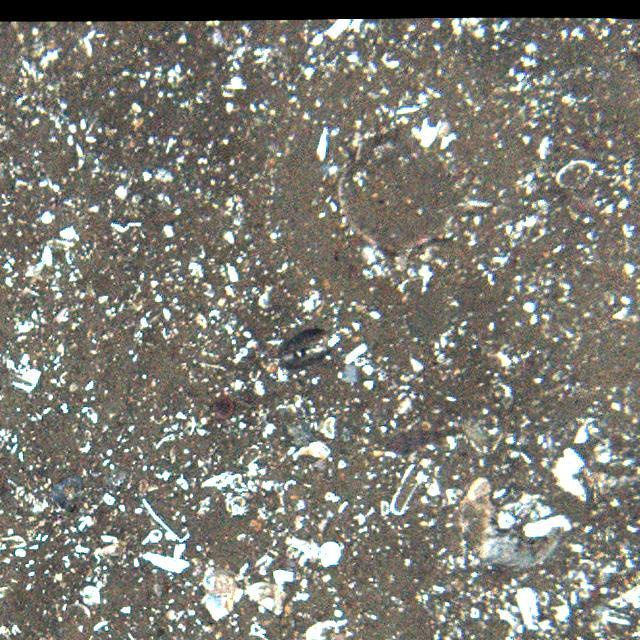scallop: (341, 132, 456, 252)
